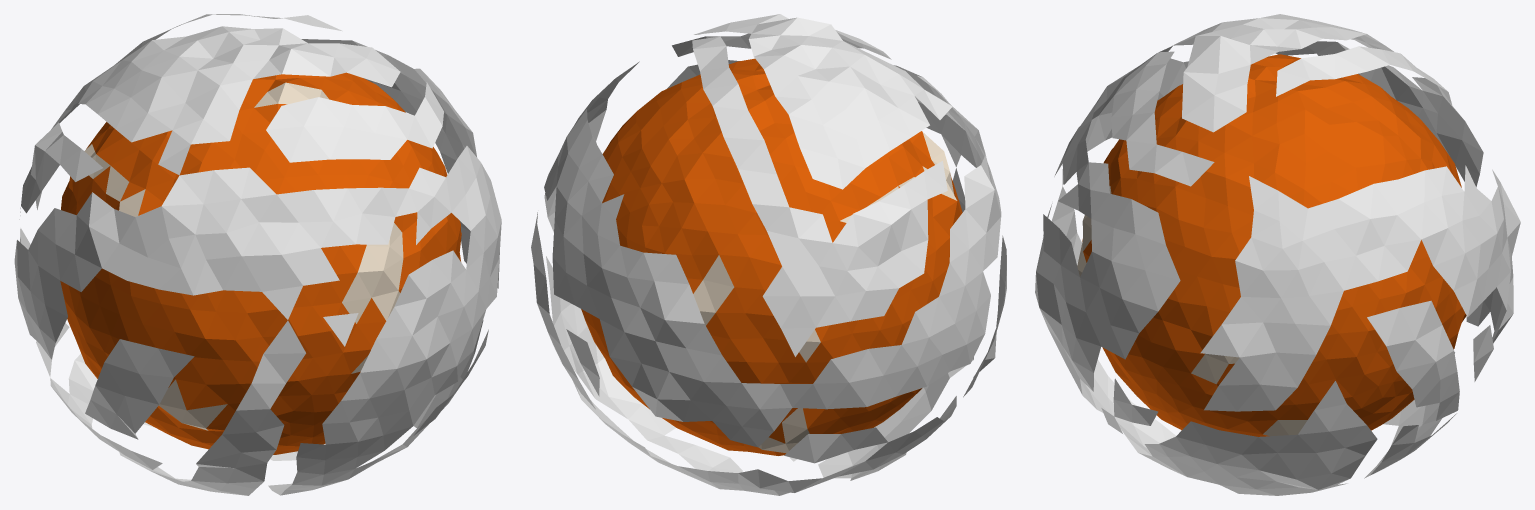
The model's file is Planet.fbx.
3 renders of one model, left to right at view 1: azimuth 30°, elevation 25°; view 2: azimuth 150°, elevation 25°; view 3: azimuth 270°, elevation 25°, orthographic. The views are drawn at different scales.
Visible parts, largest first — view 1: atmosphere, planet; view 2: atmosphere, planet; view 3: atmosphere, planet.
Part boxes in pixels (x1,y1,x2,y2): atmosphere: (14, 14, 501, 495); planet: (60, 72, 461, 454); atmosphere: (531, 14, 1006, 495); planet: (581, 58, 962, 455); atmosphere: (1035, 14, 1520, 495); planet: (1077, 54, 1466, 436).
Size of the model in its own units: 24.18 by 23.89 by 23.96.
